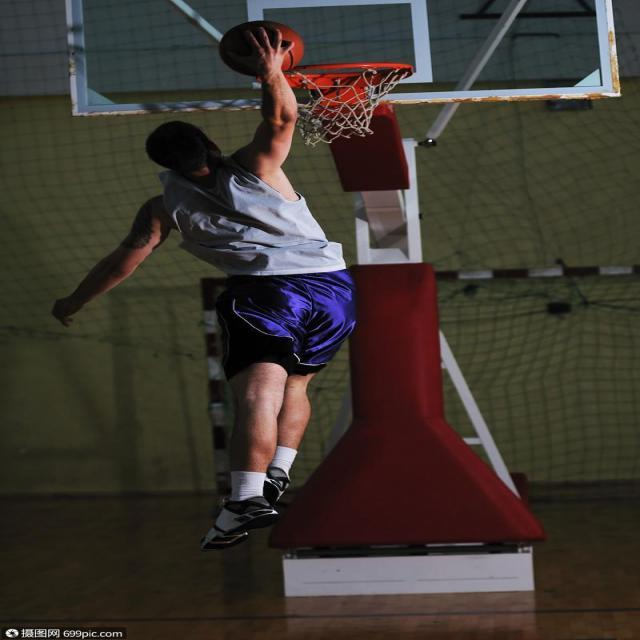rim: (226, 22, 302, 74)
